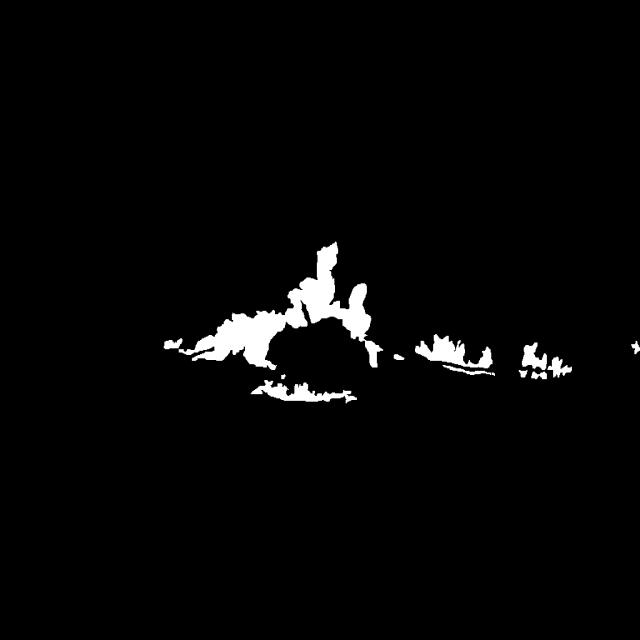fire: (130, 228, 610, 439)
